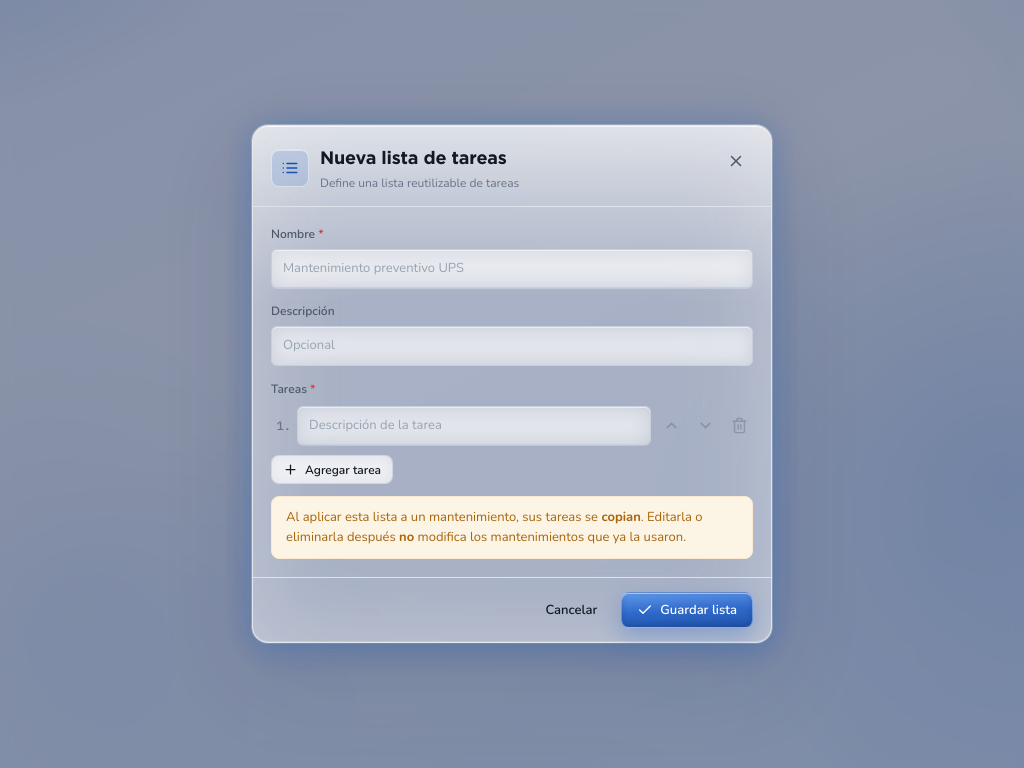
it: ChecklistTemplateFormModal › validacion › no envia si el nombre esta vacio
Step 1. Type "Una tarea" into the field with placeholder "Descripción de la tarea" → [474, 426], box [297, 406, 651, 445]
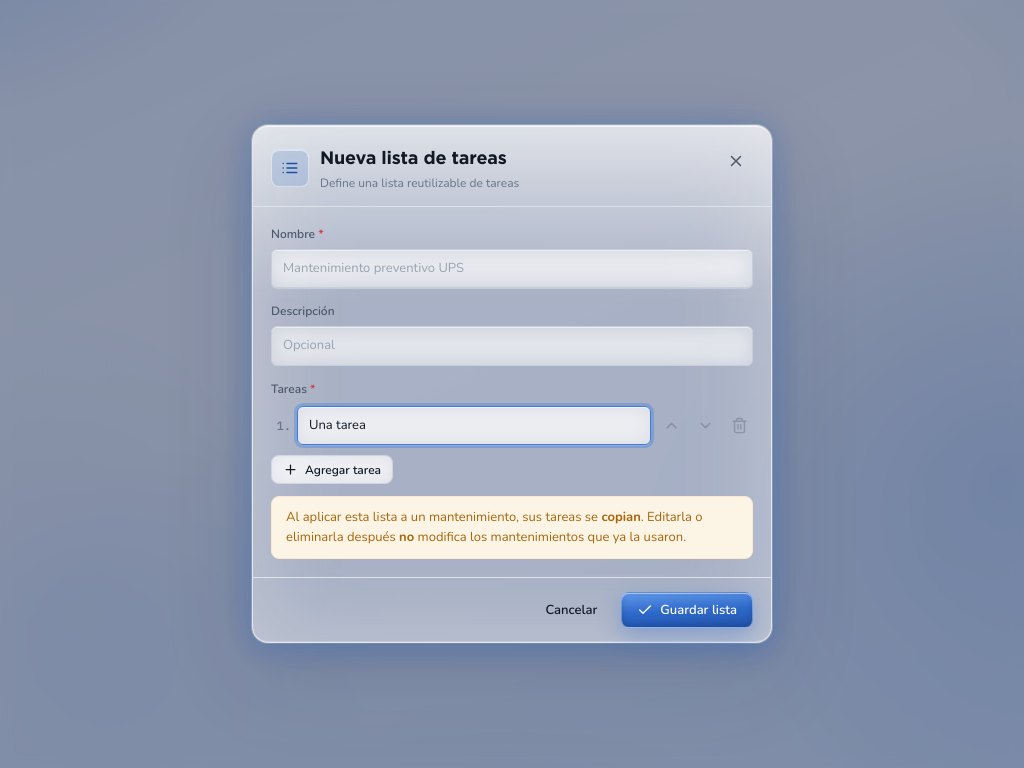
Step 2. Click the button "Guardar lista" → [687, 610], box [621, 592, 753, 628]
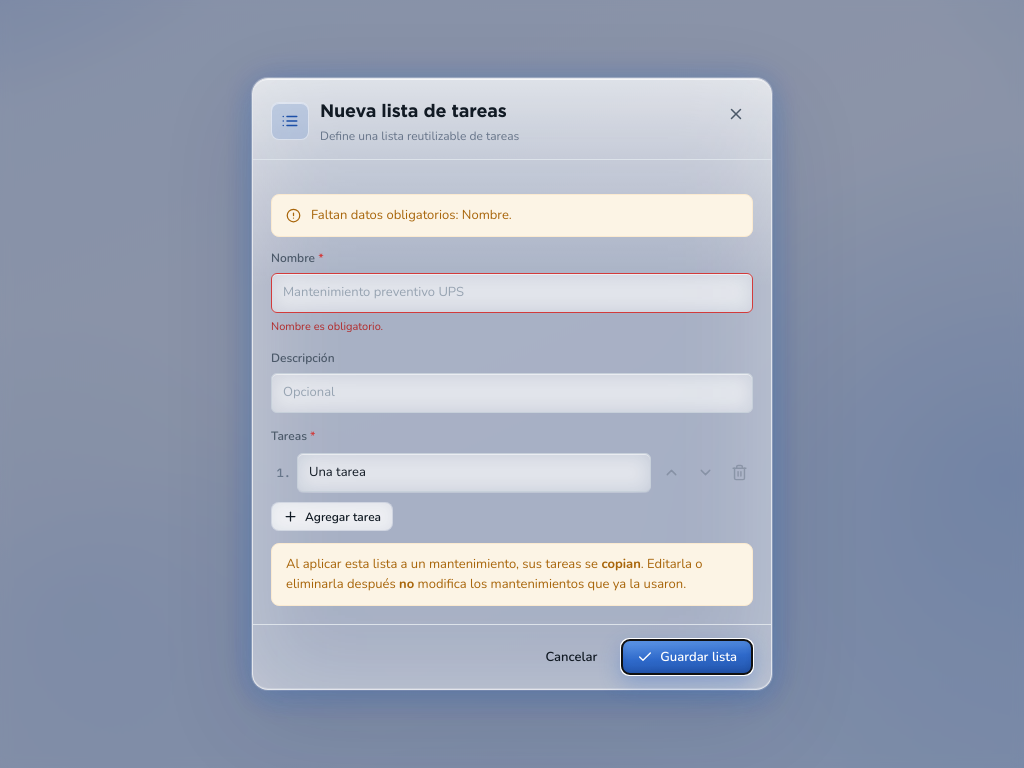
Expected: the text "Faltan datos obligatorios: Nombre." is shown, [311, 206, 512, 225]
